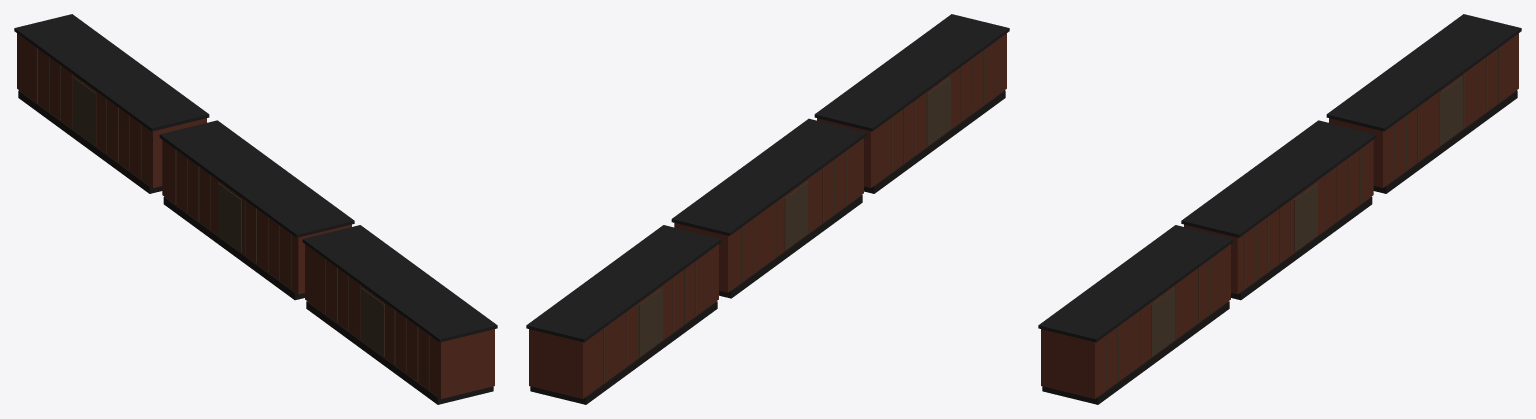
File: hoboken_boxcars.glb
The picture shows the model from 3 angles, left to right: view 1: azimuth 30°, elevation 25°; view 2: azimuth 150°, elevation 25°; view 3: azimuth 330°, elevation 25°; orthographic projection.
Visible parts, largest first — view 1: Boxcars-col; view 2: Boxcars-col; view 3: Boxcars-col.
Part boxes in pixels (x1=…): Boxcars-col: x1=14, y1=14, x2=497, y2=404; Boxcars-col: x1=526, y1=14, x2=1009, y2=404; Boxcars-col: x1=1038, y1=14, x2=1521, y2=404.
Size of the model in its own units: 2.9 by 3.69 by 36.9.
